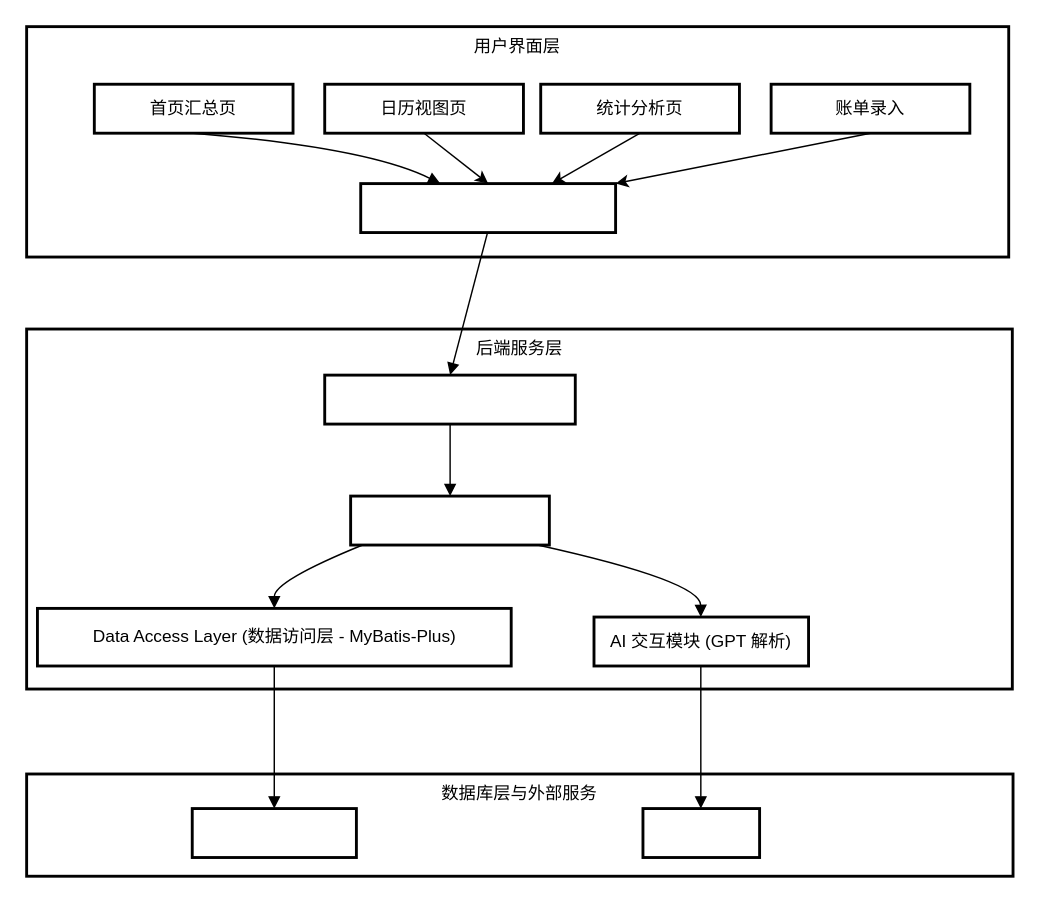
Image size: 1038x901. Some labels were removed from this diagram. Here are the shapes that lost their labels. From the top down, the centre of each, then its label:
point (487, 207): 前端 (Vue.js + Vant UI)
point (449, 399): Controllers (控制器层)
point (449, 520): Services (服务层)
point (273, 832): MySQL 数据库
point (700, 832): GPT 模型
